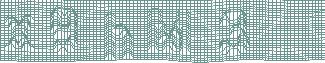3: (218, 7, 250, 57)
9: (48, 7, 80, 55)
M: (145, 8, 191, 57)
h: (103, 12, 135, 62)
x: (3, 14, 35, 53)
